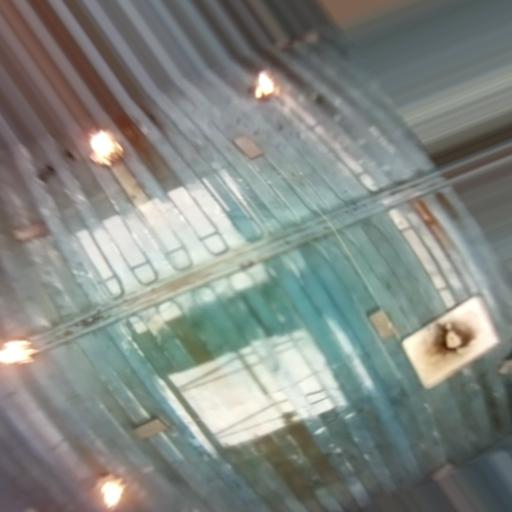Fire: (86, 131, 122, 165), (3, 339, 36, 364), (100, 480, 124, 507), (253, 73, 276, 98)
